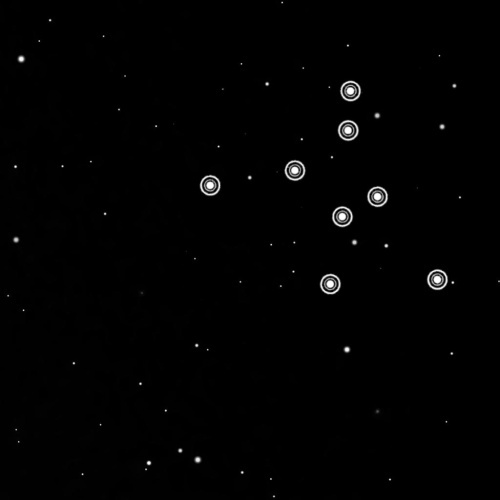hercules: (195, 76, 450, 299)
